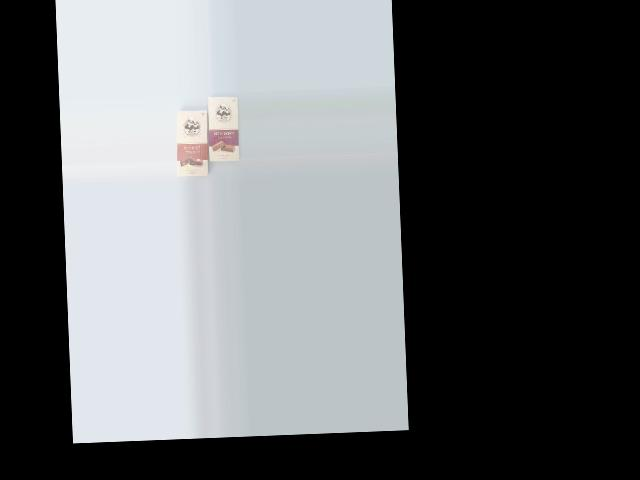chocolate: (173, 106, 215, 178)
